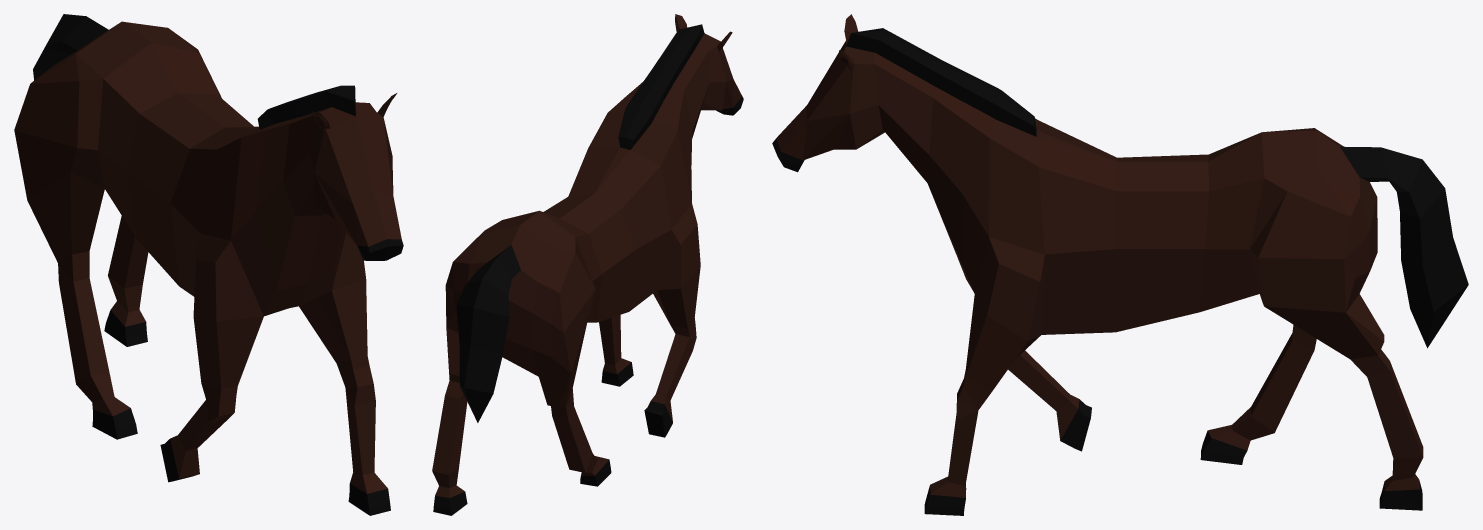
File: Horse_000005.obj
3 views of the same model, side by side, from view 1: azimuth 30°, elevation 25°; view 2: azimuth 150°, elevation 25°; view 3: azimuth 270°, elevation 25° (orthographic). The views are drawn at different scales.
Parts seen in each view (by area): view 1: Horse_Cylinder; view 2: Horse_Cylinder; view 3: Horse_Cylinder.
Part boxes in pixels (x1=…): Horse_Cylinder: x1=14, y1=14, x2=403, y2=515; Horse_Cylinder: x1=432, y1=14, x2=743, y2=515; Horse_Cylinder: x1=772, y1=14, x2=1468, y2=515.
Size of the model in its own units: 2.56 by 6.74 by 9.4.
